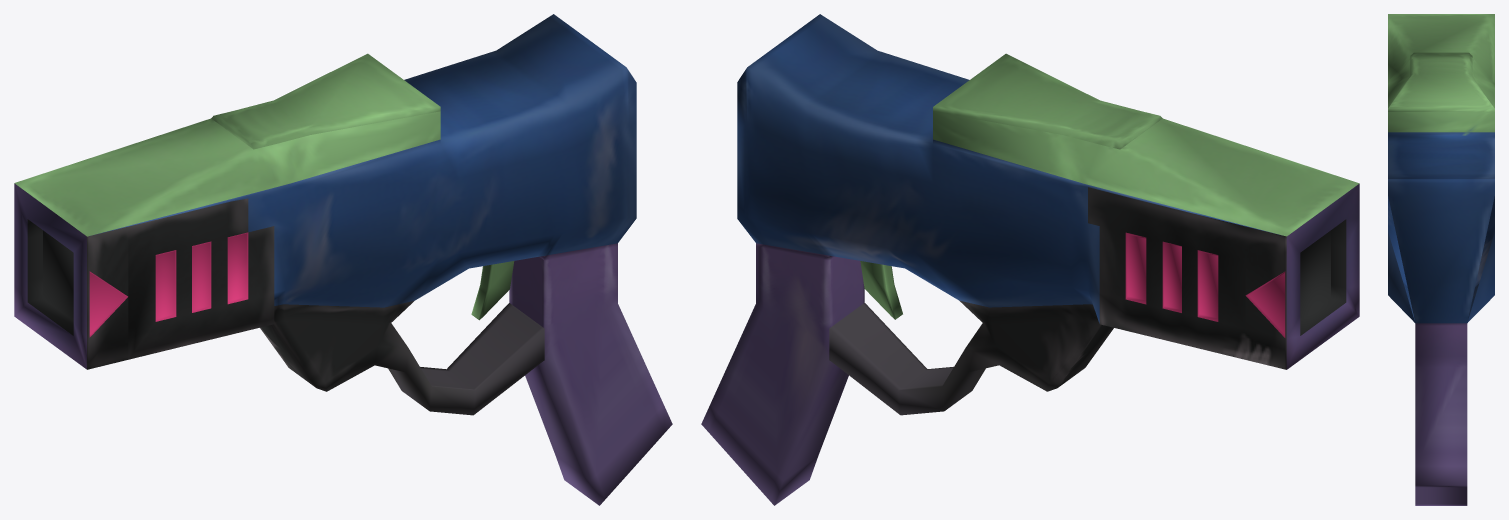
File: lanzagranadas.fbx
The picture shows the model from 3 angles, left to right: view 1: azimuth 30°, elevation 25°; view 2: azimuth 150°, elevation 25°; view 3: azimuth 270°, elevation 25°; orthographic projection. The views are drawn at different scales.
Visible parts, largest first — view 1: pCube3; view 2: pCube3; view 3: pCube3.
Part boxes in pixels (x1=…): pCube3: x1=14, y1=14, x2=672, y2=505; pCube3: x1=701, y1=14, x2=1359, y2=505; pCube3: x1=1388, y1=14, x2=1494, y2=505.
Bounding box in the file's own units: 218 × 157 × 45.5.
1 material, 1 textured.
